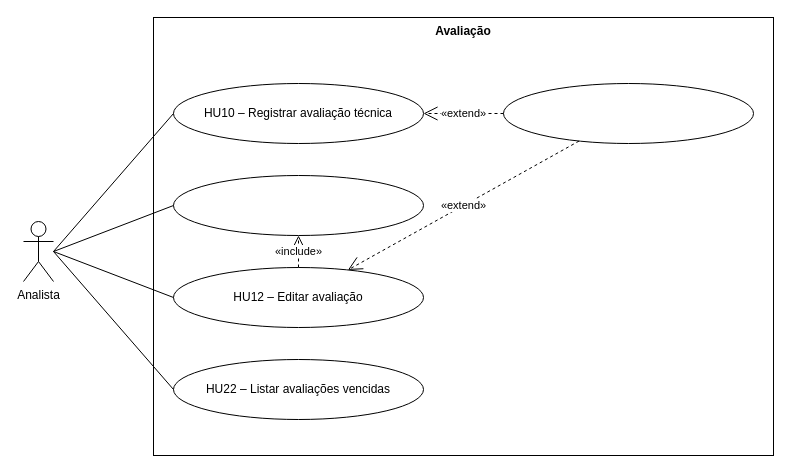
Image size: 791x473. Some labels were removed from this diagram. The shapes that lost their labels are listed below. From the top down, each one's box as (x1, y1, x2, y2) in pixels, then its label:
(502, 82, 754, 144): HU13 – Sugerir fabricante e marca pelo registro ANVISA
(172, 174, 424, 236): HU11 – Consultar avaliações
